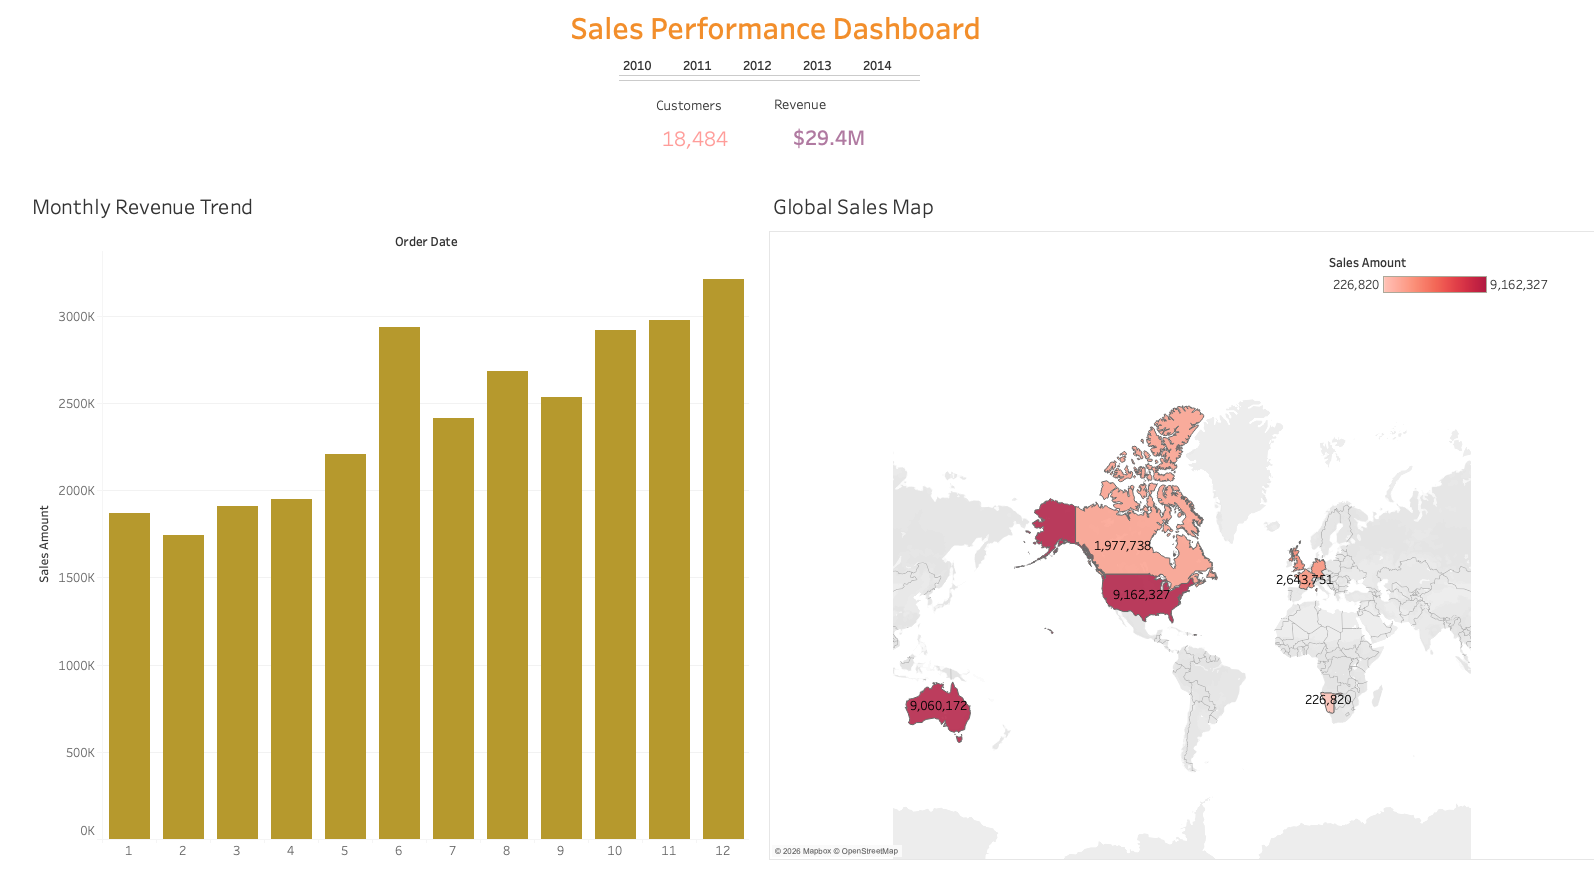

The page's visual inventory and layout, read from the dashboard file:
{"tool":"tableau","page":{"name":"Sales Performance Dashboard","canvas":[1600,900],"ordinal":0},"visuals":[{"type":"text","box":[416,3.4,721.6,49.5]},{"type":"worksheet","title":"Sheet 6","mark":"Automatic","cols":["order_date"],"box":[620,56,303,35]},{"type":"worksheet","title":"Revenue","mark":"Automatic","box":[771,92,139,84]},{"type":"worksheet","title":"Customers","mark":"Automatic","box":[653,93,108,89]},{"type":"worksheet","title":"Monthly Revenue Trend","mark":"Bar","rows":["sales_amount"],"cols":["order_date"],"box":[28.8,189,721.6,671.6]},{"type":"worksheet","title":"Global Sales Map","mark":"Multipolygon","box":[769.6,189,825.6,671.6]},{"type":"legend","title":"Global Sales Map","param":"[federated.07bdjdn0wlq3zl1g1o3vm04zrrqy].[sum:sales_amount:qk]","box":[1329.6,255.4,224,85.5]}]}

Visuals, with their boxes in screenshot pixels (x1, y1, x2, y2), scaled from the page's 1600x900 canvas onto the 1595x889 screenshot:
text: bbox=[415, 3, 1134, 52]
"Sheet 6" worksheet: bbox=[618, 55, 920, 90]
"Revenue" worksheet: bbox=[769, 91, 907, 174]
"Customers" worksheet: bbox=[651, 92, 759, 180]
"Monthly Revenue Trend" worksheet (Bar marks): bbox=[29, 187, 748, 850]
"Global Sales Map" worksheet (Multipolygon marks): bbox=[767, 187, 1590, 850]
"Global Sales Map" legend: bbox=[1325, 252, 1549, 337]
